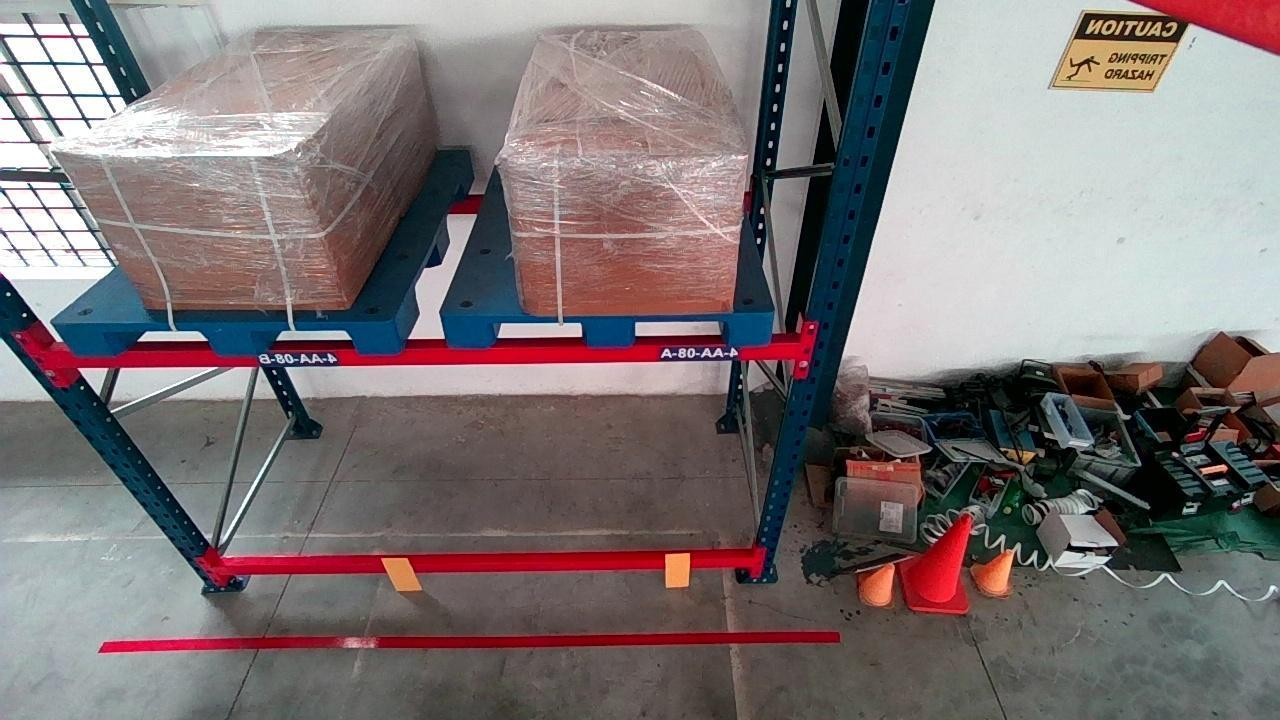h_rack: (48, 341, 802, 372), (217, 552, 752, 579)
orange_strip: (383, 555, 422, 591), (663, 551, 693, 585)
red_line: (101, 627, 847, 652)
small_pallet: (73, 320, 396, 356), (455, 312, 771, 344)
